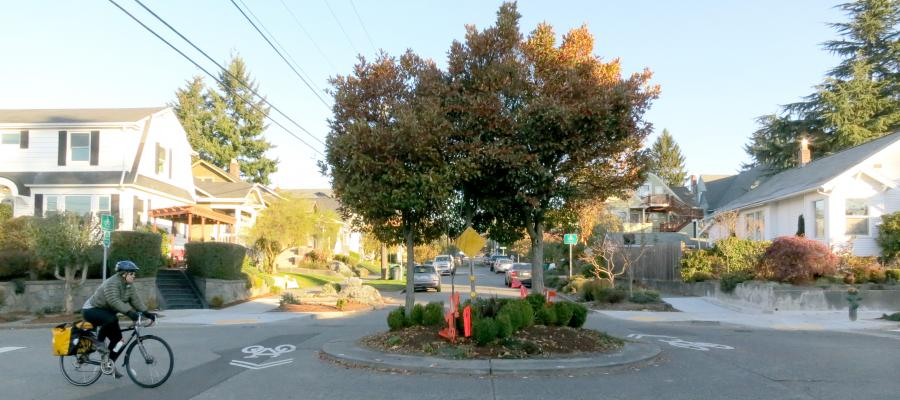plants: (463, 6, 656, 254), (326, 5, 461, 259), (829, 5, 900, 135), (188, 74, 277, 163), (709, 244, 856, 281)
